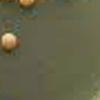orange: (2, 32, 19, 52), (17, 0, 36, 10)
